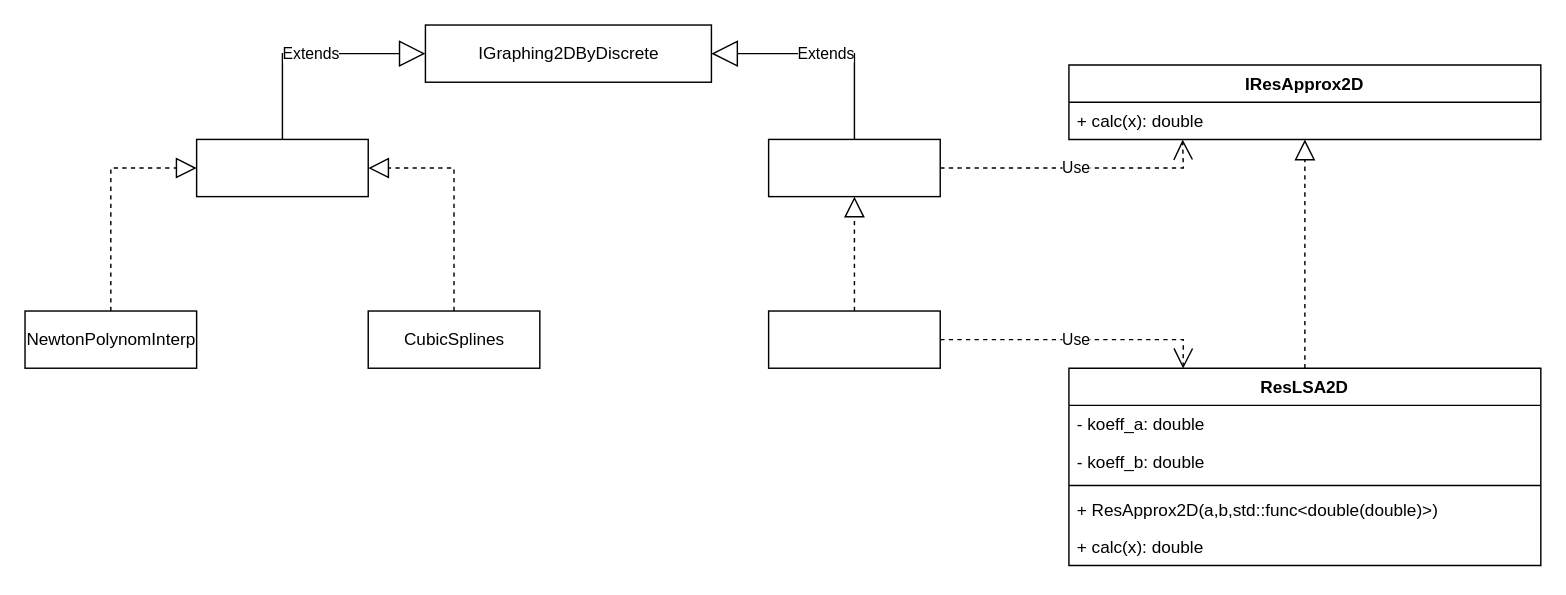
Some shapes in this 1566 by 595 pixel diagram are drawn without their labels. Here are the shapes that lost their labels. From the top down, the centre of each, then its label:
At point (281, 167): "Interpolation2D".
At point (853, 167): "Approximation2D".
At point (853, 339): "LeastSquareApprox".
